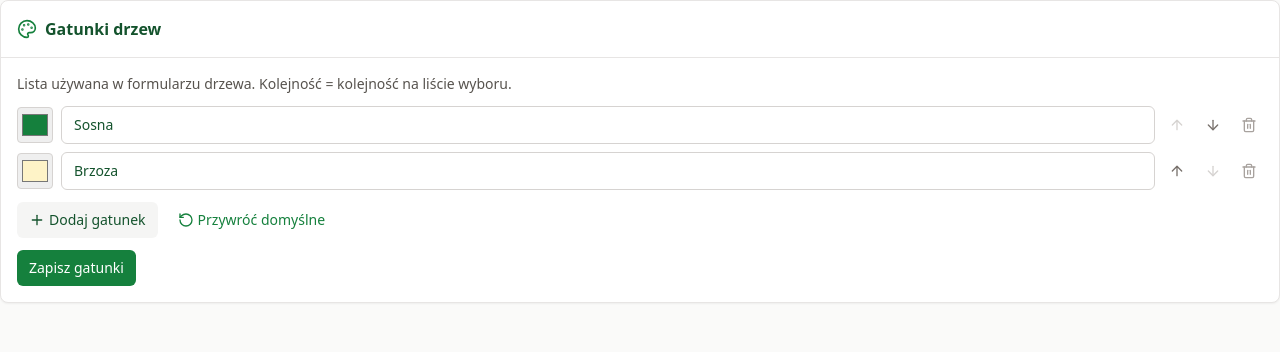
Scenario: SpeciesEditor › should show error when species name is empty
Clear the field named "Nazwa gatunku 1": {"x": 608, "y": 125} [61,106,1155,144]
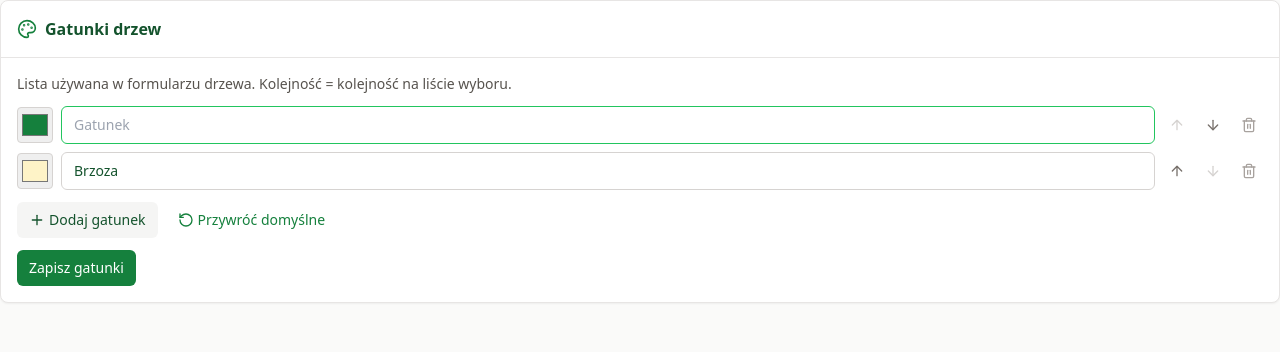
Click the button with test id "species-save": {"x": 76, "y": 268} [17,250,136,286]
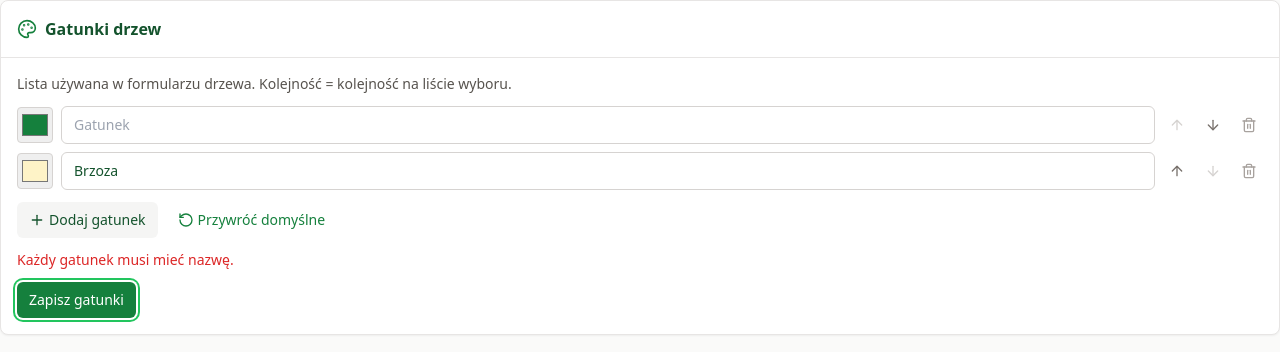
Now the message with test id "species-error" shows "nazwę", box [17,250,234,269]
